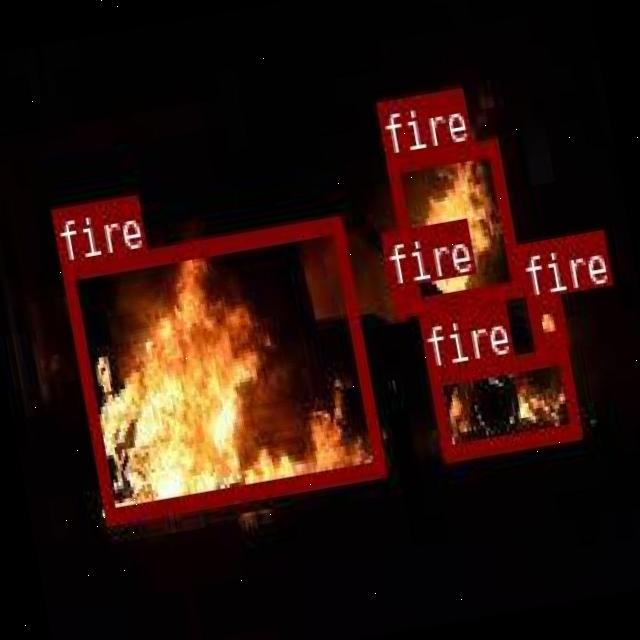fire: (60, 215, 382, 520), (384, 135, 521, 310), (425, 344, 579, 458), (524, 294, 566, 348), (388, 283, 413, 316)
